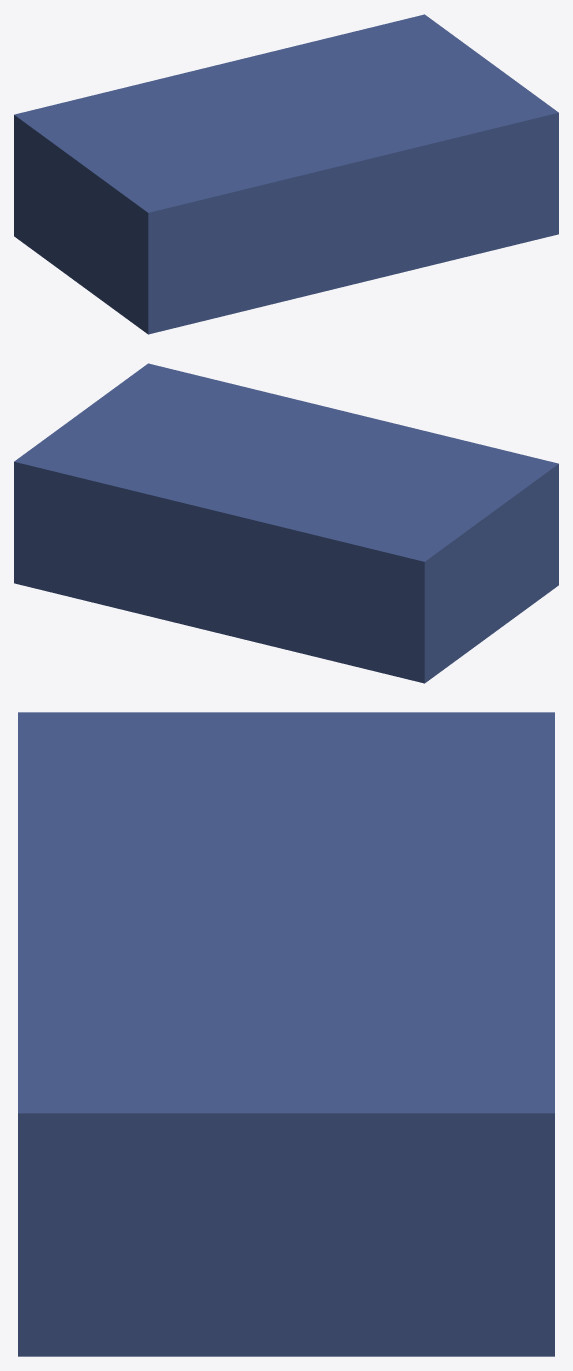
Rendered from mergulhador_cintura.glb.
3 views of the same model, one above another, from view 1: azimuth 30°, elevation 25°; view 2: azimuth 150°, elevation 25°; view 3: azimuth 270°, elevation 25° (orthographic). The views are drawn at different scales.
Visible parts, largest first — view 1: mergulhador_cintura; view 2: mergulhador_cintura; view 3: mergulhador_cintura.
Part boxes in pixels (x1=…): mergulhador_cintura: x1=14, y1=14, x2=558, y2=334; mergulhador_cintura: x1=14, y1=363, x2=558, y2=683; mergulhador_cintura: x1=18, y1=712, x2=554, y2=1356.
Bounding box in the file's own units: 0.53 × 0.15 × 0.3.
